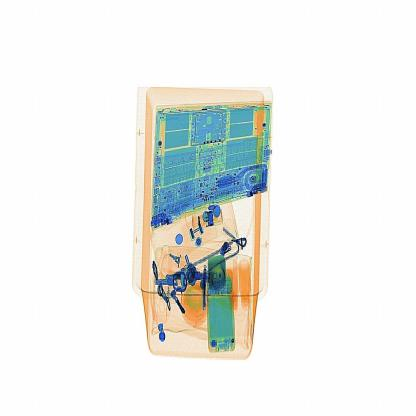knife: (194, 258, 209, 316)
